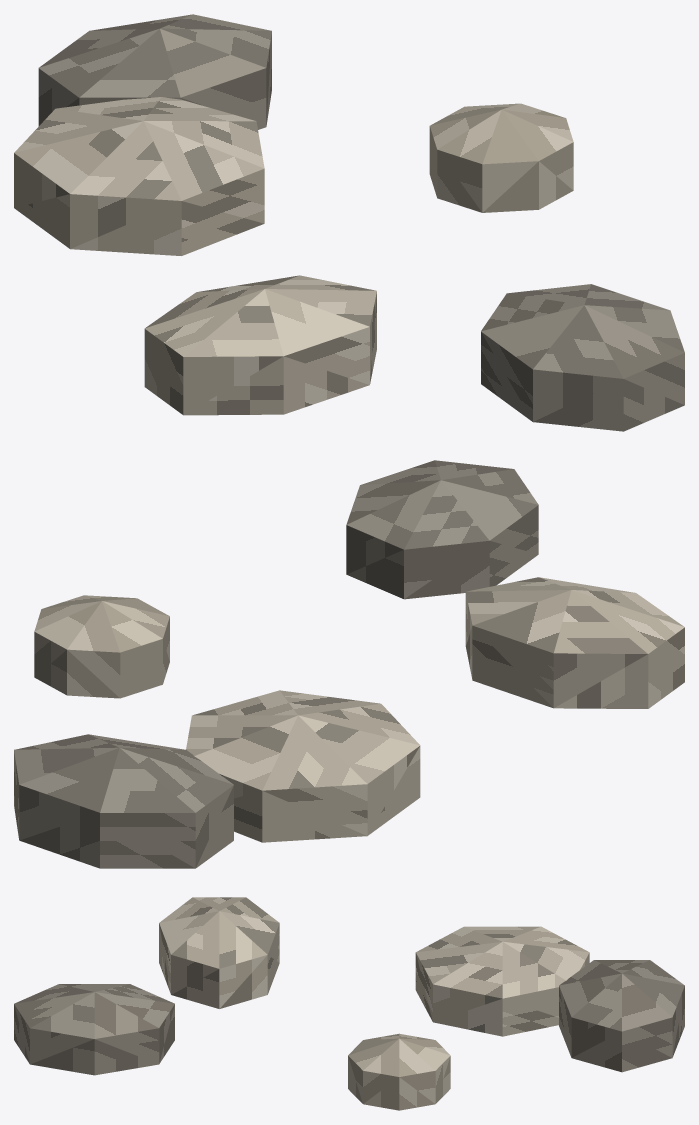
The model's file is fd_gibs_invertebrate.glb.
3 renders of one model, top to bottom at view 1: azimuth 30°, elevation 25°; view 2: azimuth 150°, elevation 25°; view 3: azimuth 270°, elevation 25°, orthographic. The views are drawn at different scales.
Parts seen in each view (by area): view 1: block_goo (×4), block_quiver; view 2: block_goo (×4), block_quiver; view 3: block_goo (×4), block_quiver.
Boxes of the visible parts, x1=… form: block_goo (×4): x1=14, y1=14, x2=684, y2=431; block_quiver: x1=429, y1=103, x2=573, y2=212; block_goo (×4): x1=14, y1=460, x2=684, y2=868; block_quiver: x1=34, y1=595, x2=169, y2=698; block_goo (×4): x1=14, y1=897, x2=684, y2=1075; block_quiver: x1=348, y1=1033, x2=450, y2=1110.
Size of what is drawn, in the model's own units: 0.2862 by 0.0608 by 0.453.
Materials: 1 (1 with a texture image).
